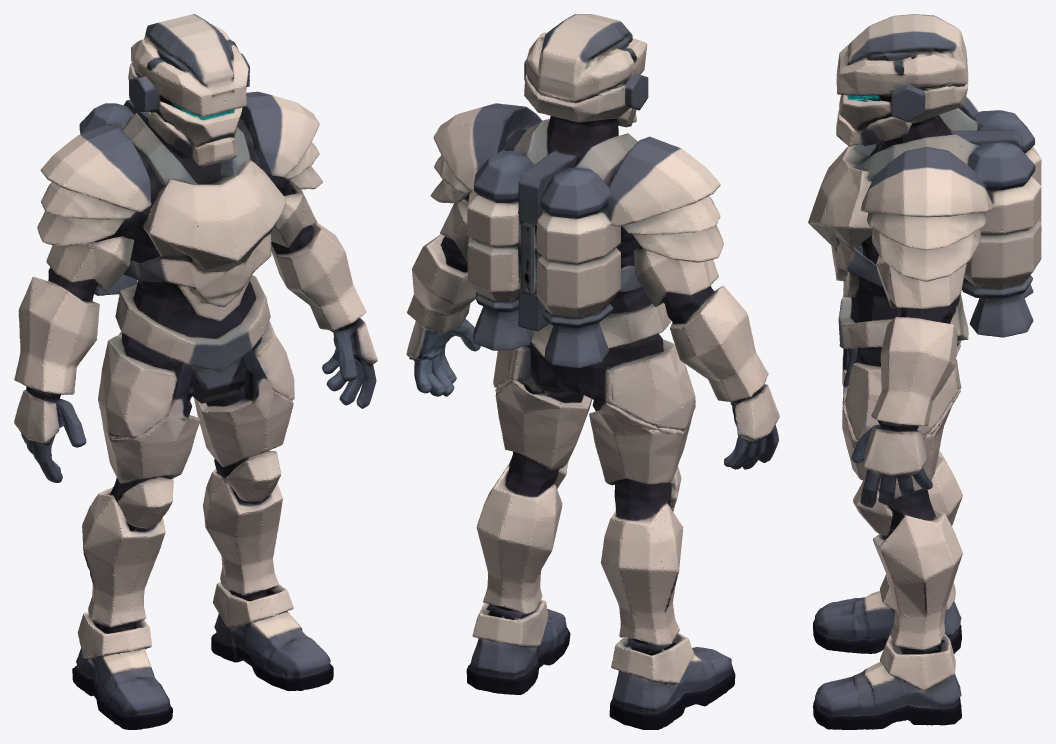
File: vanguard-r2-s301.glb
The picture shows the model from 3 angles, left to right: view 1: azimuth 30°, elevation 25°; view 2: azimuth 150°, elevation 25°; view 3: azimuth 270°, elevation 25°; orthographic projection. The views are drawn at different scales.
Visible parts, largest first — view 1: geometry_0; view 2: geometry_0; view 3: geometry_0.
Part boxes in pixels (<box>): geometry_0: <box>14,14,377,729</box>; geometry_0: <box>406,14,779,729</box>; geometry_0: <box>808,14,1041,729</box>.
Bounding box in the file's own units: 0.2746 × 0.5002 × 0.161.
1 material, 1 textured.
